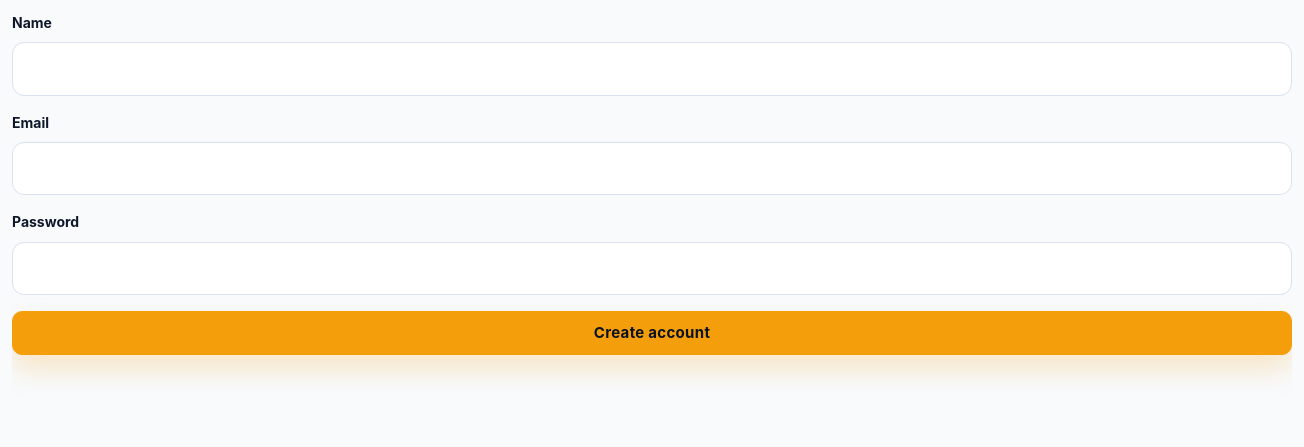
Scenario: keeps the visible button label stable and blocks duplicate submission while pending
Type "Person" into the field labelled "Name".
click(652, 69); type("Person")  # box [12,42,1292,96]
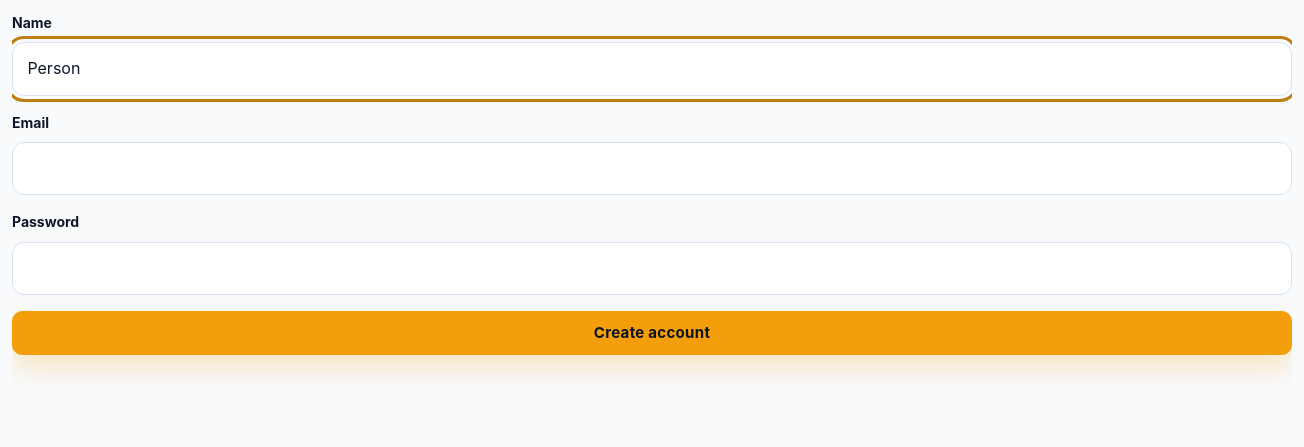
Type "person@example.com" into the field labelled "Email".
click(652, 169); type("person@example.com")  # box [12,142,1292,195]
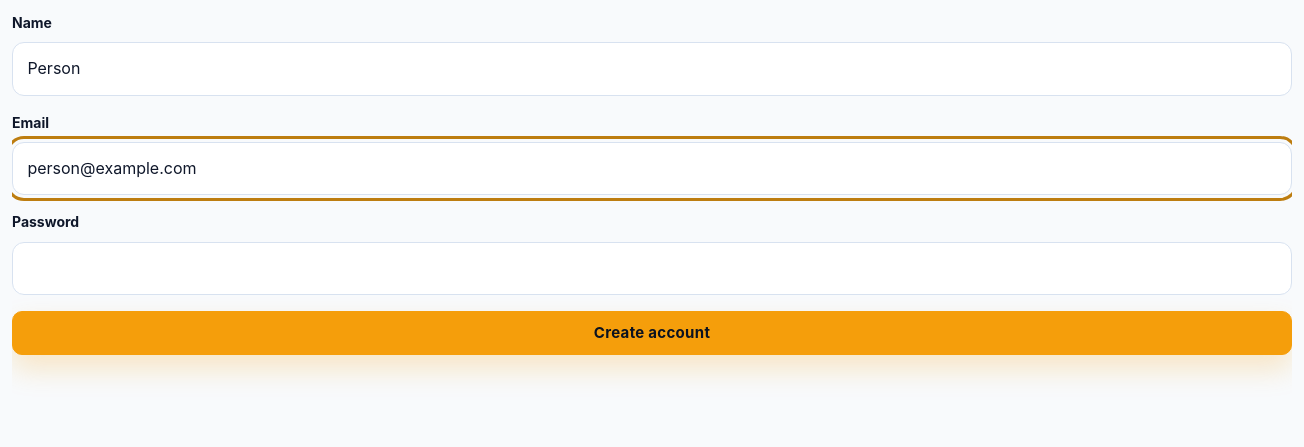
Type "correct horse battery staple" into the password field labelled "Password".
click(652, 268); type("correct horse battery staple")  # box [12,242,1292,295]
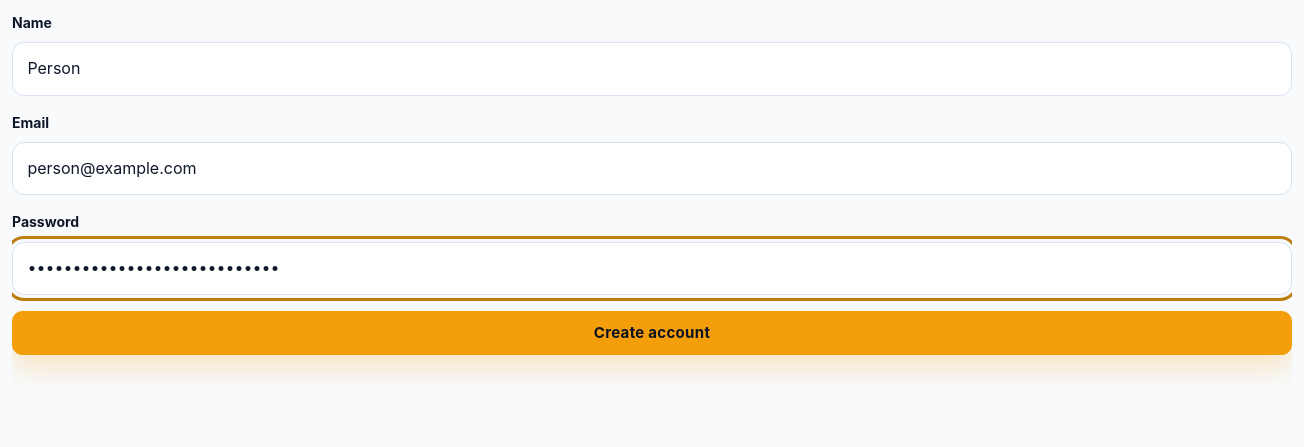
Click the button "Create account".
click(652, 333)  # box [12,311,1292,355]
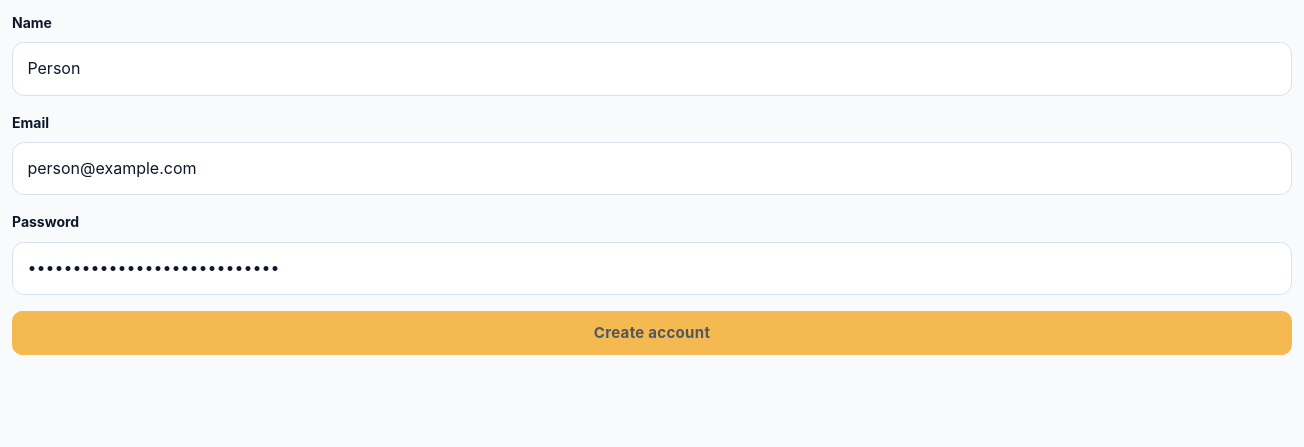
Check: the button "Create account" is disabled
Click the button "Create account".
click(652, 333)  # box [12,311,1292,355]
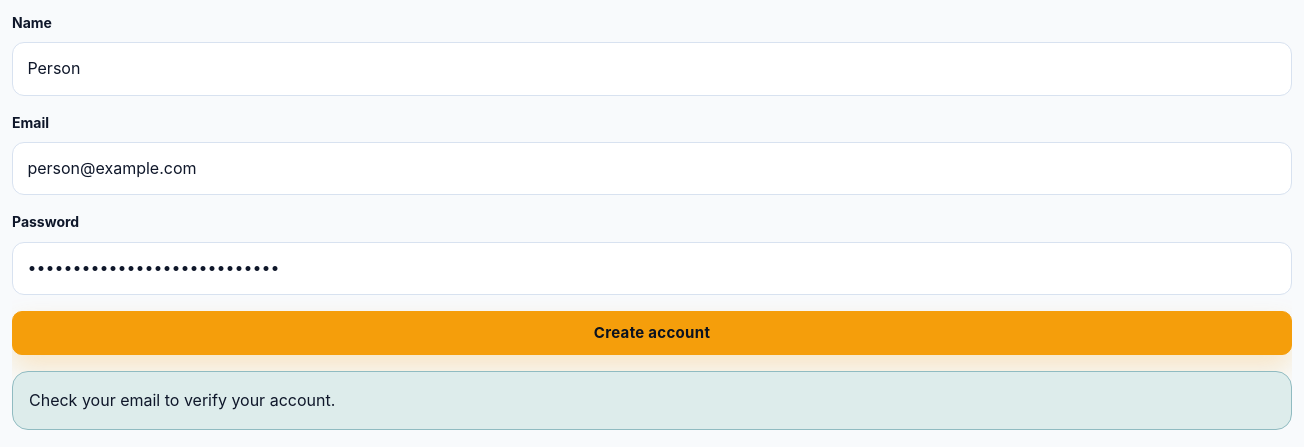
Check: the message shows "Check your email", box [29,390,335,410]
